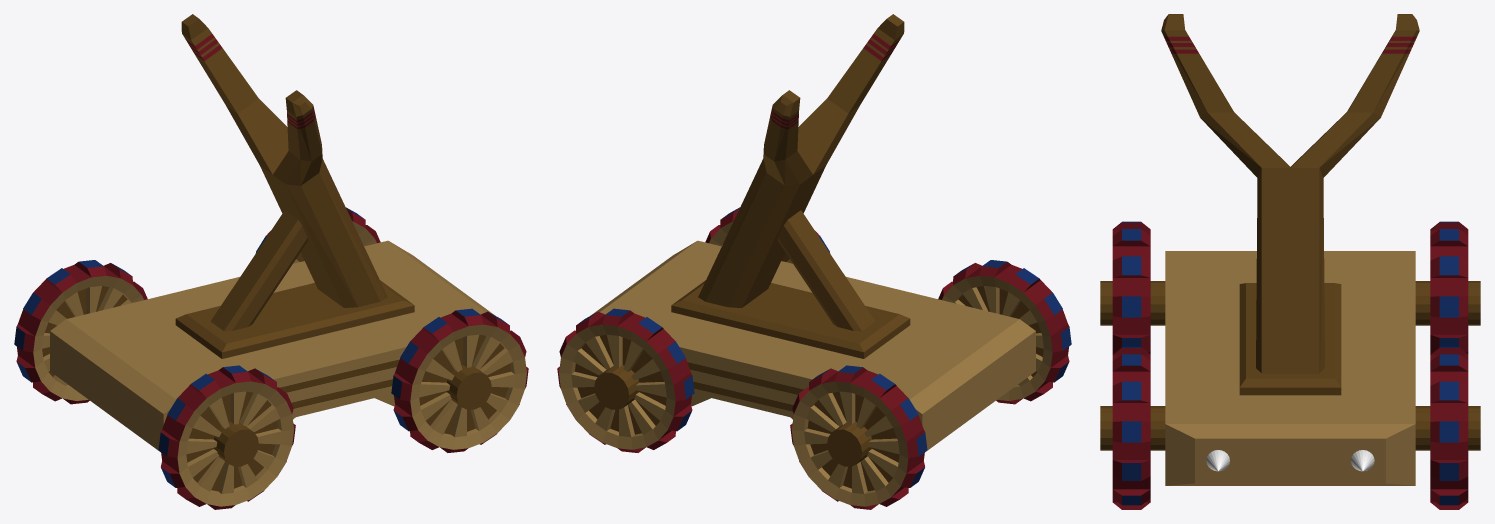
The model's file is Slingshot01.fbx.
3 renders of one model, left to right at view 1: azimuth 30°, elevation 25°; view 2: azimuth 150°, elevation 25°; view 3: azimuth 270°, elevation 25°, orthographic. The views are drawn at different scales.
Parts seen in each view (by area): view 1: pCube1; view 2: pCube1; view 3: pCube1.
Part boxes in pixels (x1,y1,x2,y2): pCube1: [14, 14, 528, 509]; pCube1: [557, 14, 1071, 509]; pCube1: [1100, 14, 1480, 509].
Bounding box in the file's own units: 6.61 × 6.14 × 5.13.
